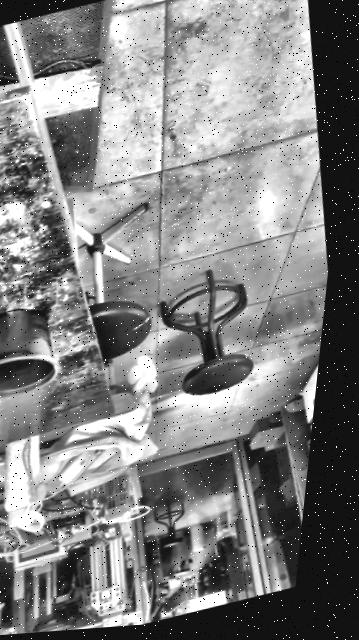pot: (0, 300, 66, 408)
